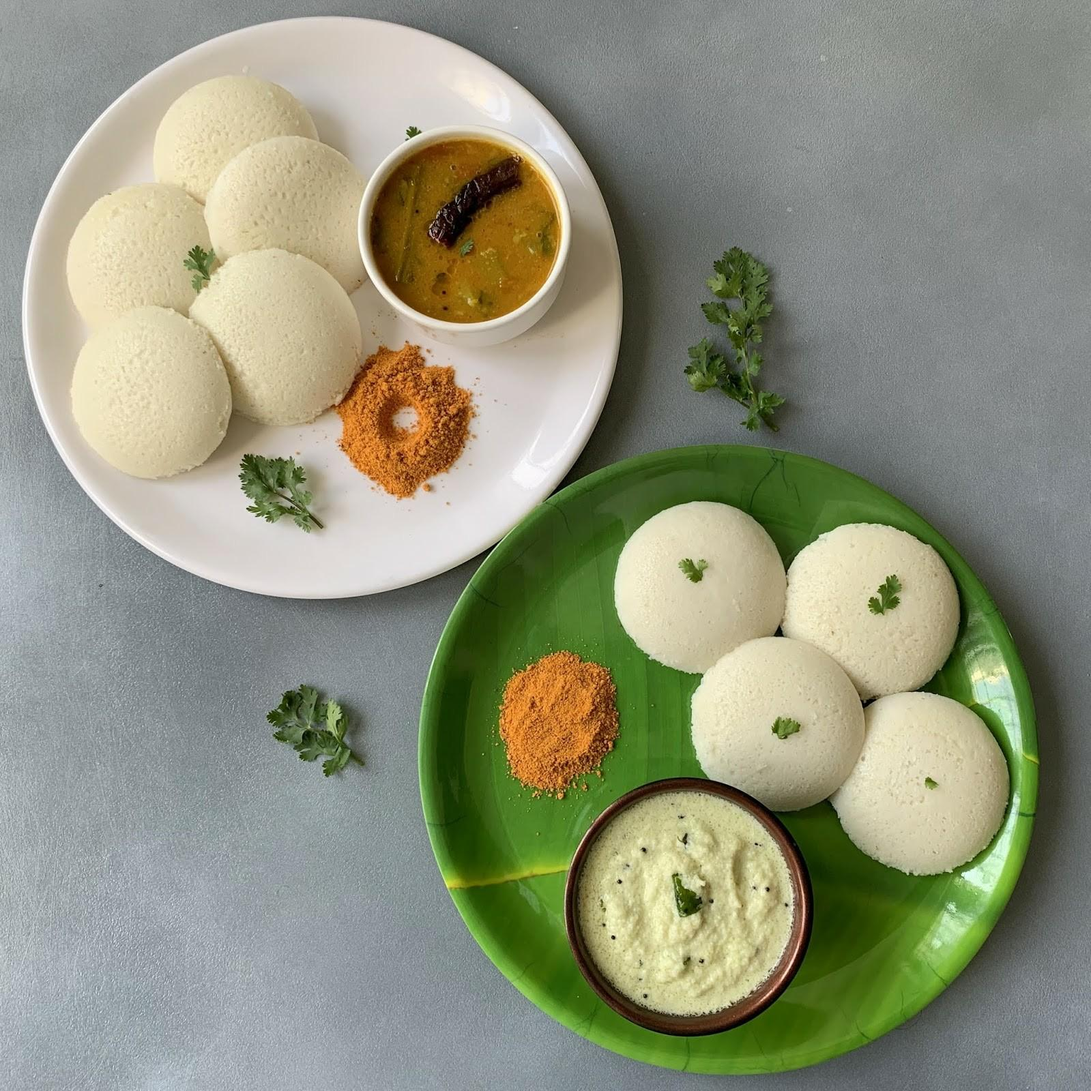CoconutChutney: (588, 789, 794, 1017)
